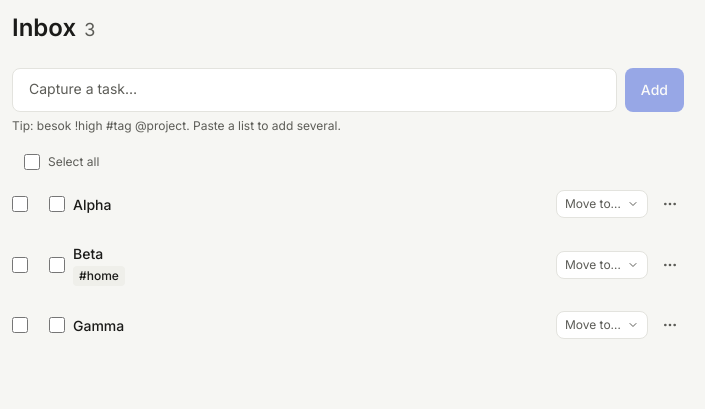
Test: Inbox row actions › Set due date asks for the date under the row, then saves it
The width and height of the screenshot is (705, 409).
Step 1. Click the button named "Actions for \"Alpha\"" → click(670, 204), box [656,190,684,218]
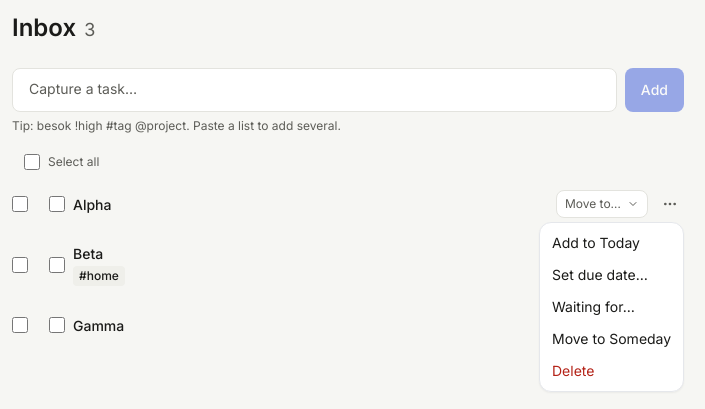
Step 2. Click the menu item "Set due date…" → click(600, 274), box [552,266,648,283]
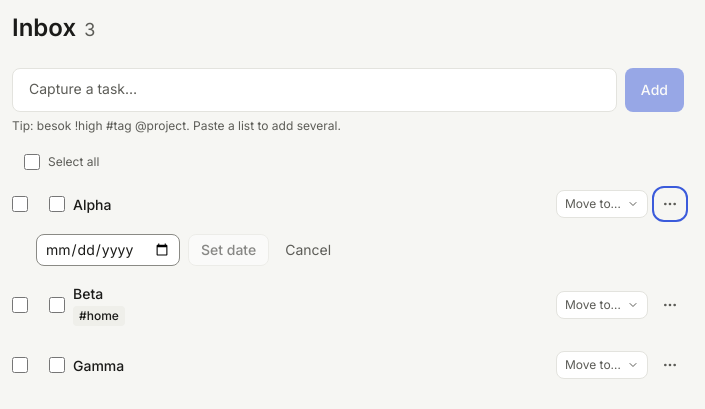
Expected: the button "Set date" is disabled, [188,234,269,266]
Step 3. Type "2026-11-05" into the date field named "Due date" → (108, 250), box [36,234,180,266]
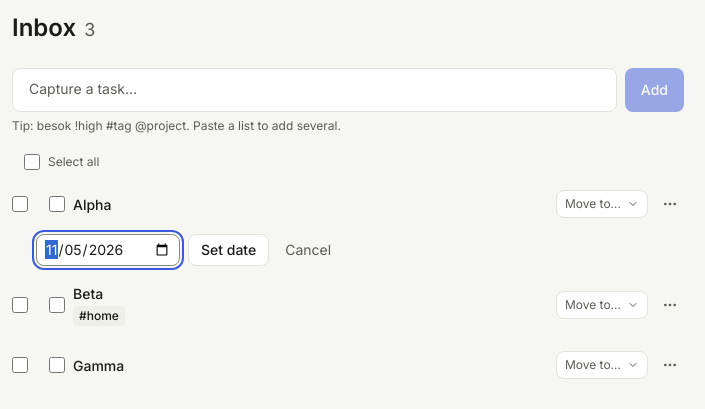
Step 4. Click the button "Set date" → click(229, 250), box [188,234,269,266]
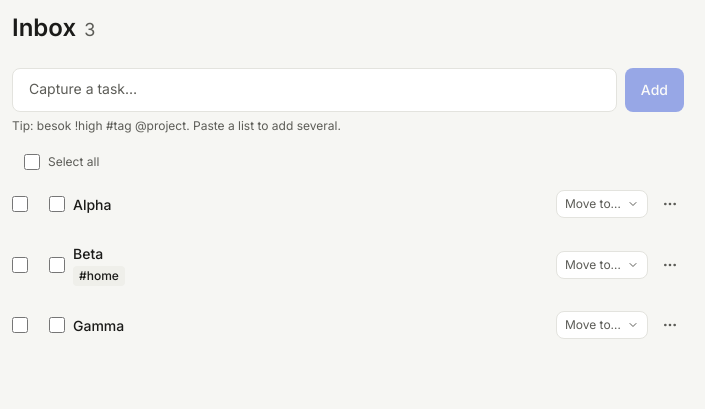
Expected: the date field labelled "Due date" is gone
